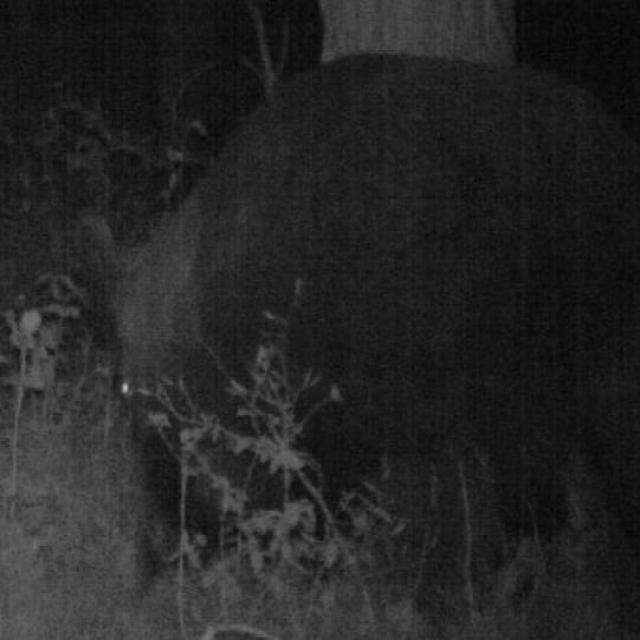pig: (87, 41, 640, 550)
